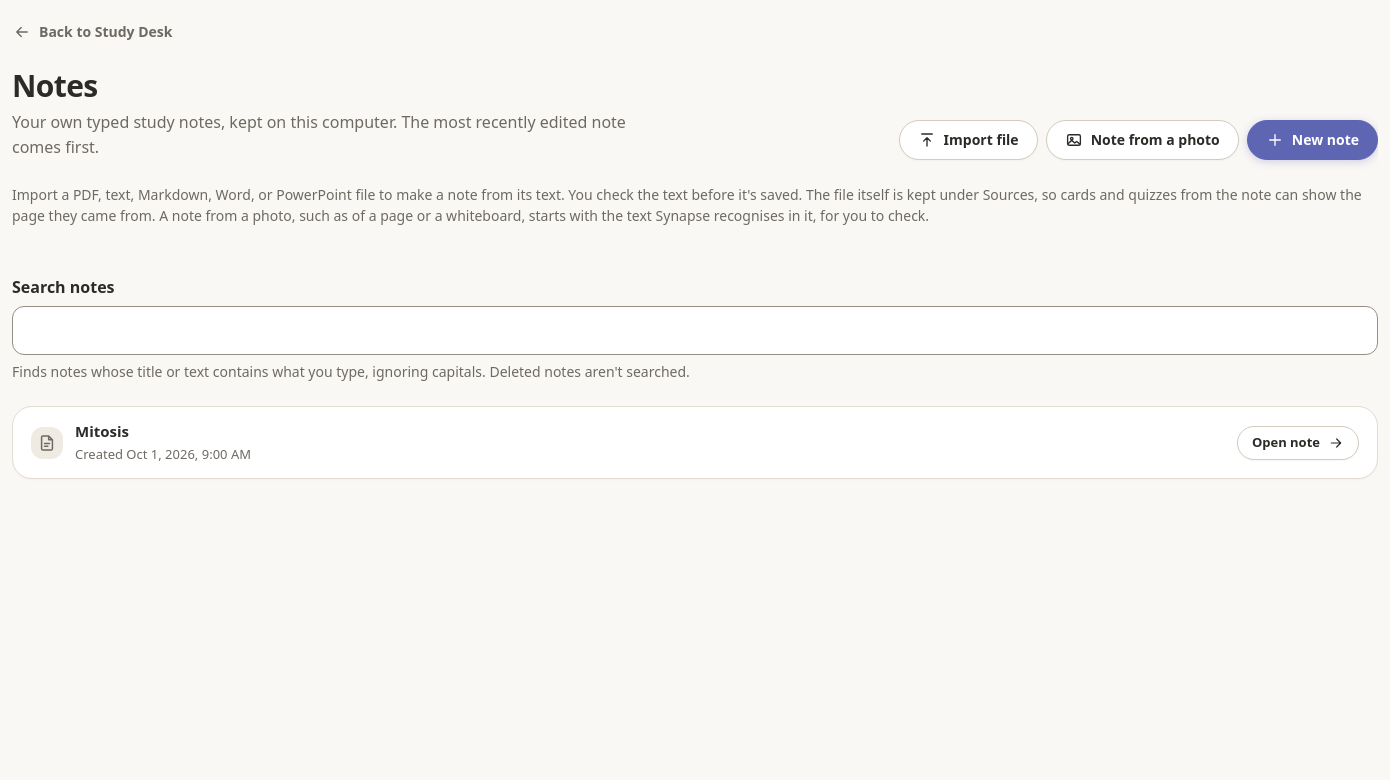
Test: text in a picture of a note › says when no text was found, and when reading is refused
Click the button "Open note".
click(1298, 443)  # box [1237, 426, 1359, 460]
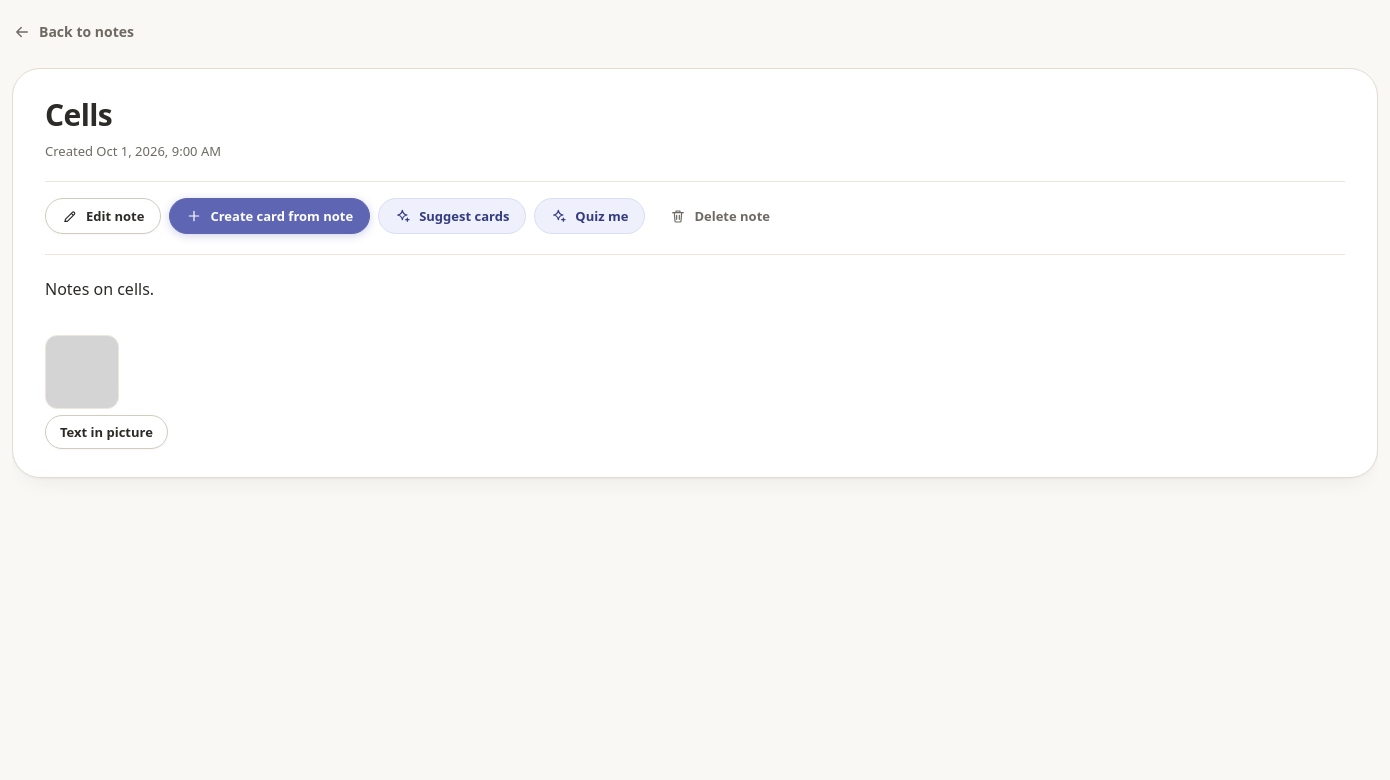
expect the heading "Cells" is shown: met, box [45, 94, 112, 135]
Click the button with aria-label "Text in picture in the note".
click(106, 432)  # box [45, 415, 168, 449]
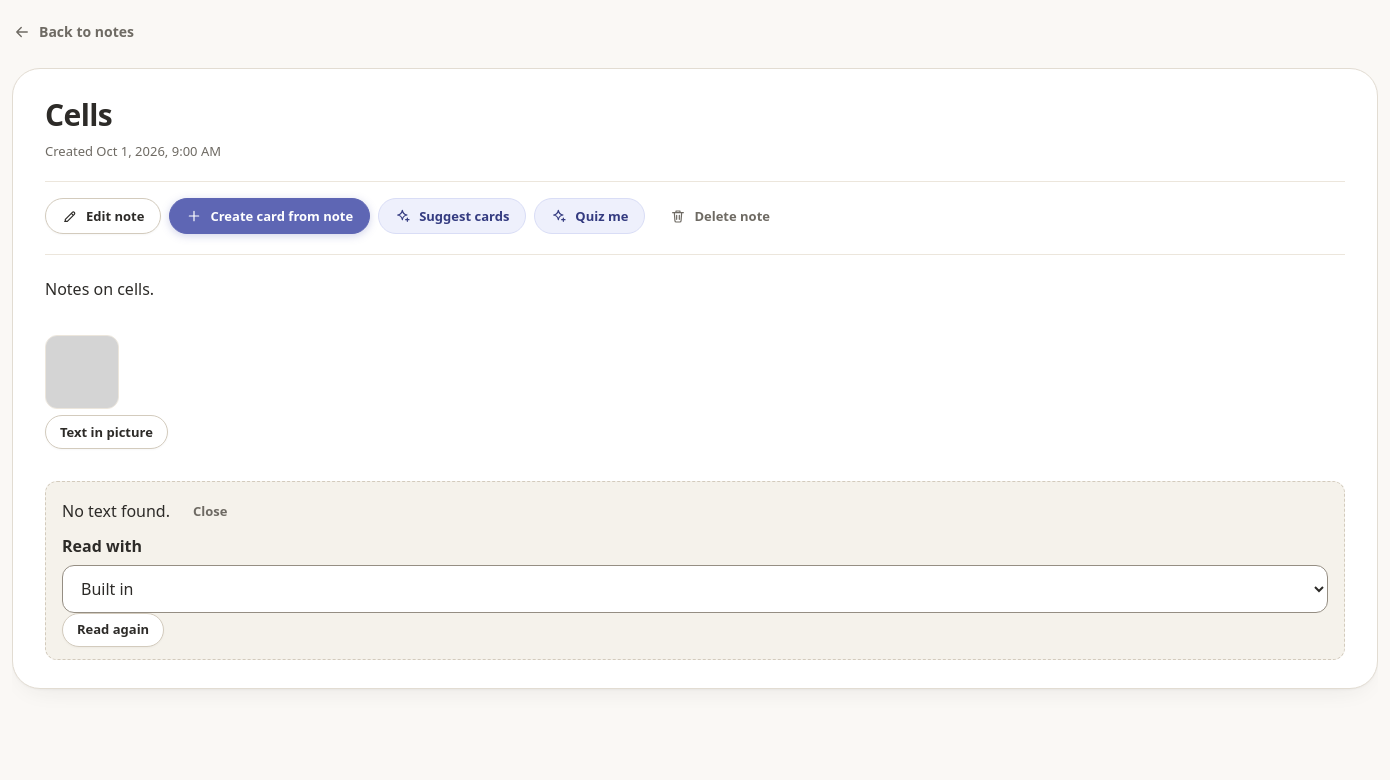
expect the text "No text found." is shown: met, box [62, 499, 170, 524]
Click the button with aria-label "Text in picture in the note".
click(106, 432)  # box [45, 415, 168, 449]
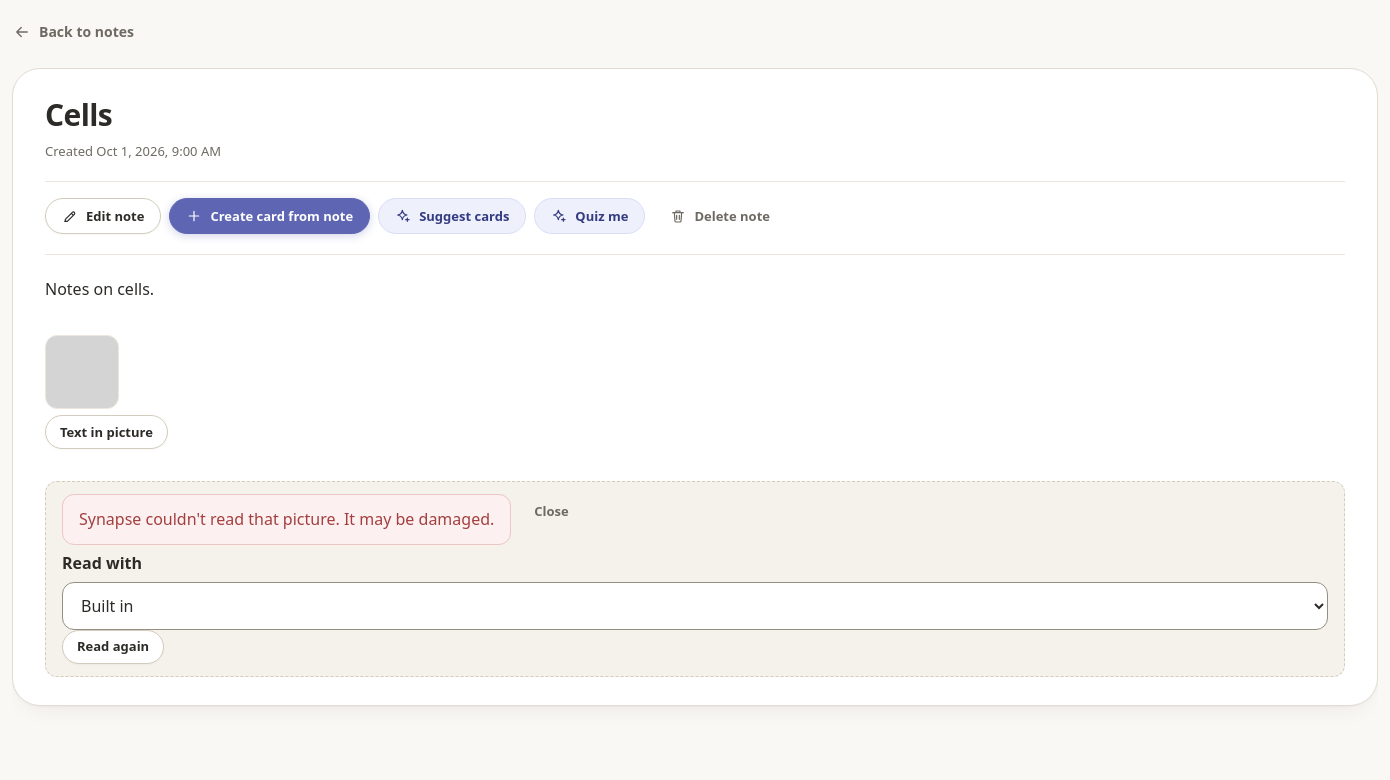
expect the message reads "Synapse couldn't read that picture. It may be damaged.": met, box [79, 508, 494, 530]
